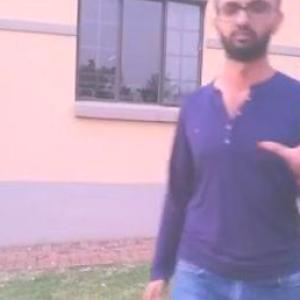follow_hand: (257, 88, 299, 200)
